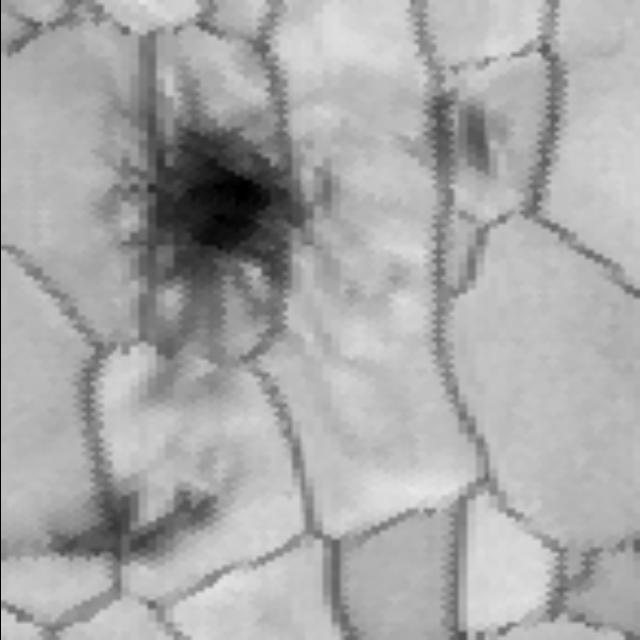good_void: (94, 53, 339, 407), (40, 467, 222, 572), (437, 90, 519, 195), (559, 537, 615, 595)
